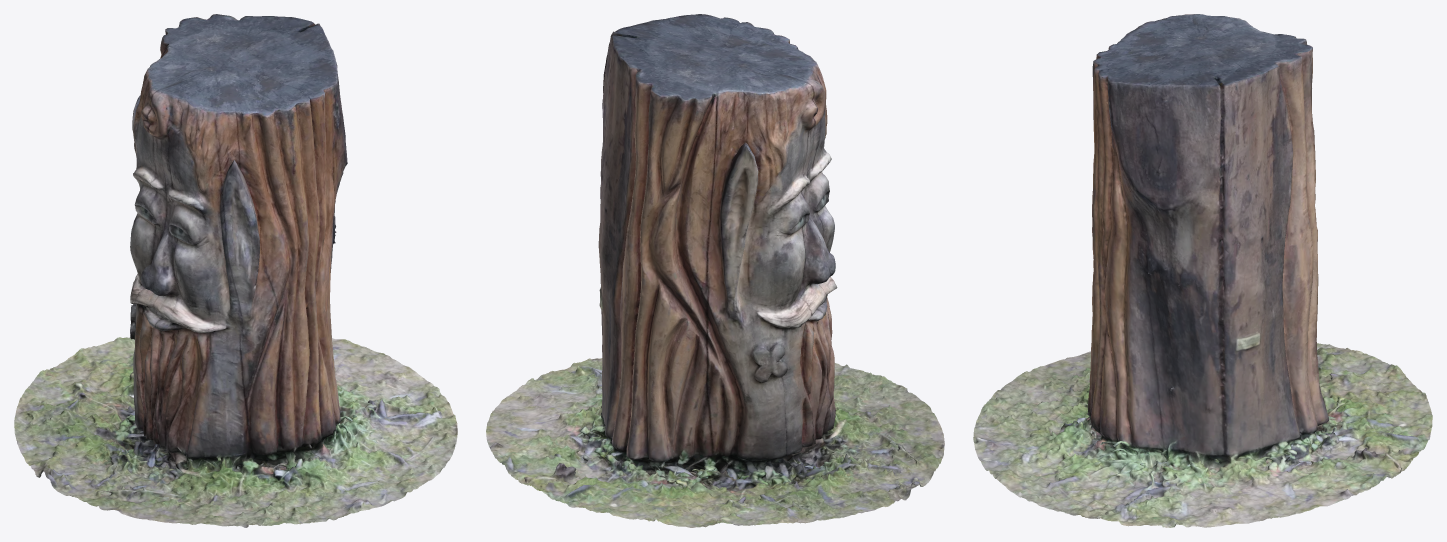
File: skritek_-_wooden_statue.glb
3 renders of one model, left to right at view 1: azimuth 30°, elevation 25°; view 2: azimuth 150°, elevation 25°; view 3: azimuth 270°, elevation 25°, orthographic. The views are drawn at different scales.
Visible parts, largest first — view 1: prigl_skritek_prigl_skritekDiffuseMap_0; view 2: prigl_skritek_prigl_skritekDiffuseMap_0; view 3: prigl_skritek_prigl_skritekDiffuseMap_0.
Boxes of the visible parts, bbox=[...] form: prigl_skritek_prigl_skritekDiffuseMap_0: bbox=[14, 14, 457, 527]; prigl_skritek_prigl_skritekDiffuseMap_0: bbox=[486, 14, 944, 527]; prigl_skritek_prigl_skritekDiffuseMap_0: bbox=[973, 14, 1432, 527].
Size of the model in its own units: 20.41 by 19.83 by 20.41.
1 material, 1 textured.
